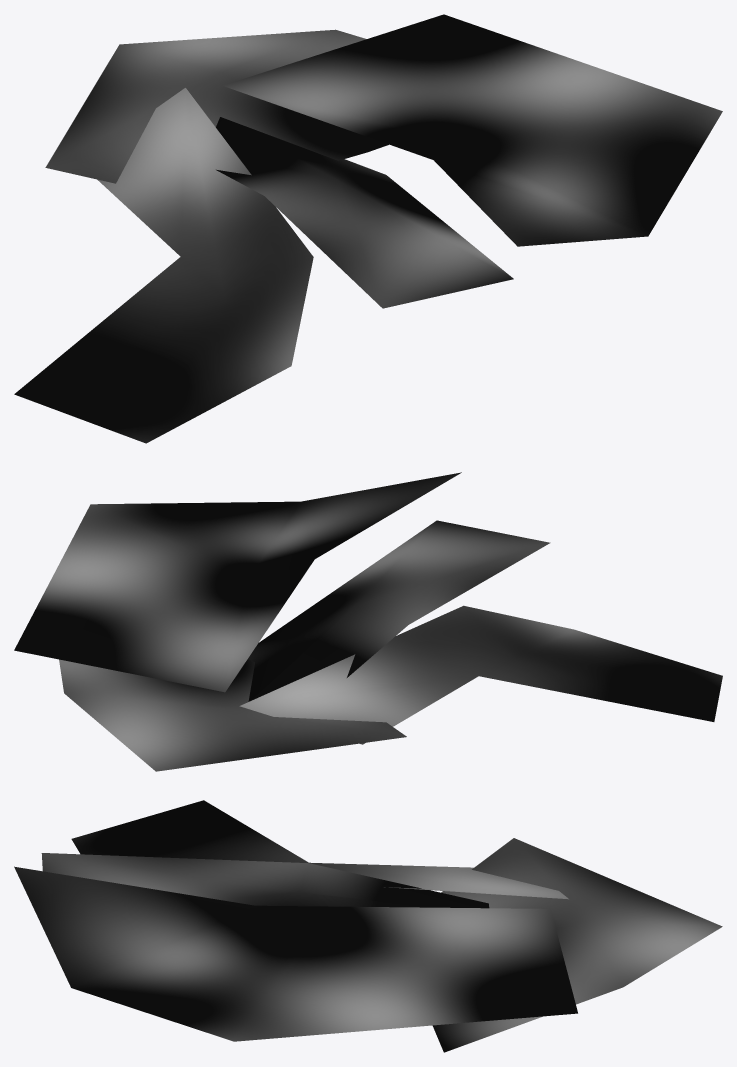
The model's file is SM_Ivy_Plane_039.fbx.
The picture shows the model from 3 angles, top to bottom: view 1: azimuth 30°, elevation 25°; view 2: azimuth 150°, elevation 25°; view 3: azimuth 270°, elevation 25°; orthographic projection. The views are drawn at different scales.
Parts seen in each view (by area): view 1: SM_Ivy_Plane_039; view 2: SM_Ivy_Plane_039; view 3: SM_Ivy_Plane_039.
Part boxes in pixels (box(x1,y1,x2,y2)): SM_Ivy_Plane_039: box(14, 14, 722, 443); SM_Ivy_Plane_039: box(14, 472, 722, 771); SM_Ivy_Plane_039: box(14, 800, 722, 1052).
Bounding box in the file's own units: 119 × 108 × 21.32.
1 material, 1 textured.
